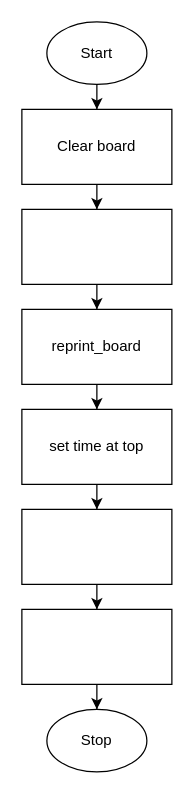
Image size: 194x794. Some labels were removed from this diagram. Each missing label, with the centre of its shape:
"output complete and time" goes at (x=96, y=246).
"place cursor in orignial position" goes at (x=96, y=546).
"set LED color" goes at (x=96, y=646).
